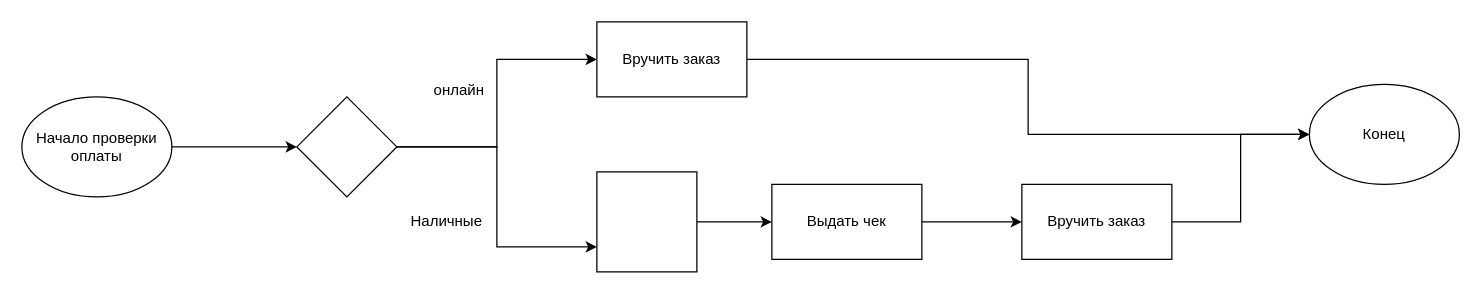
This 1481x294 diagram has some shape labels left out. The shapes that lost their labels are listed below. From the top down, each one's centre as x and y in pixels, then its label:
At [346,146]: "Способ оплаты?".
At [646,221]: "Принять деньги".
